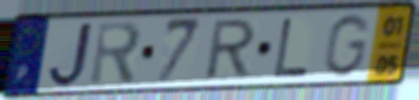7: (156, 15, 205, 89)
G: (320, 12, 373, 80)
J: (45, 20, 96, 90)
L: (270, 16, 312, 80)
R: (87, 18, 145, 88), (201, 16, 260, 83)
